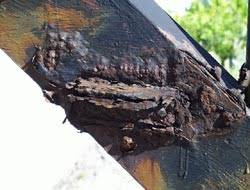rust: (32, 32, 243, 152), (2, 6, 48, 74), (128, 152, 169, 188), (34, 6, 95, 30)
